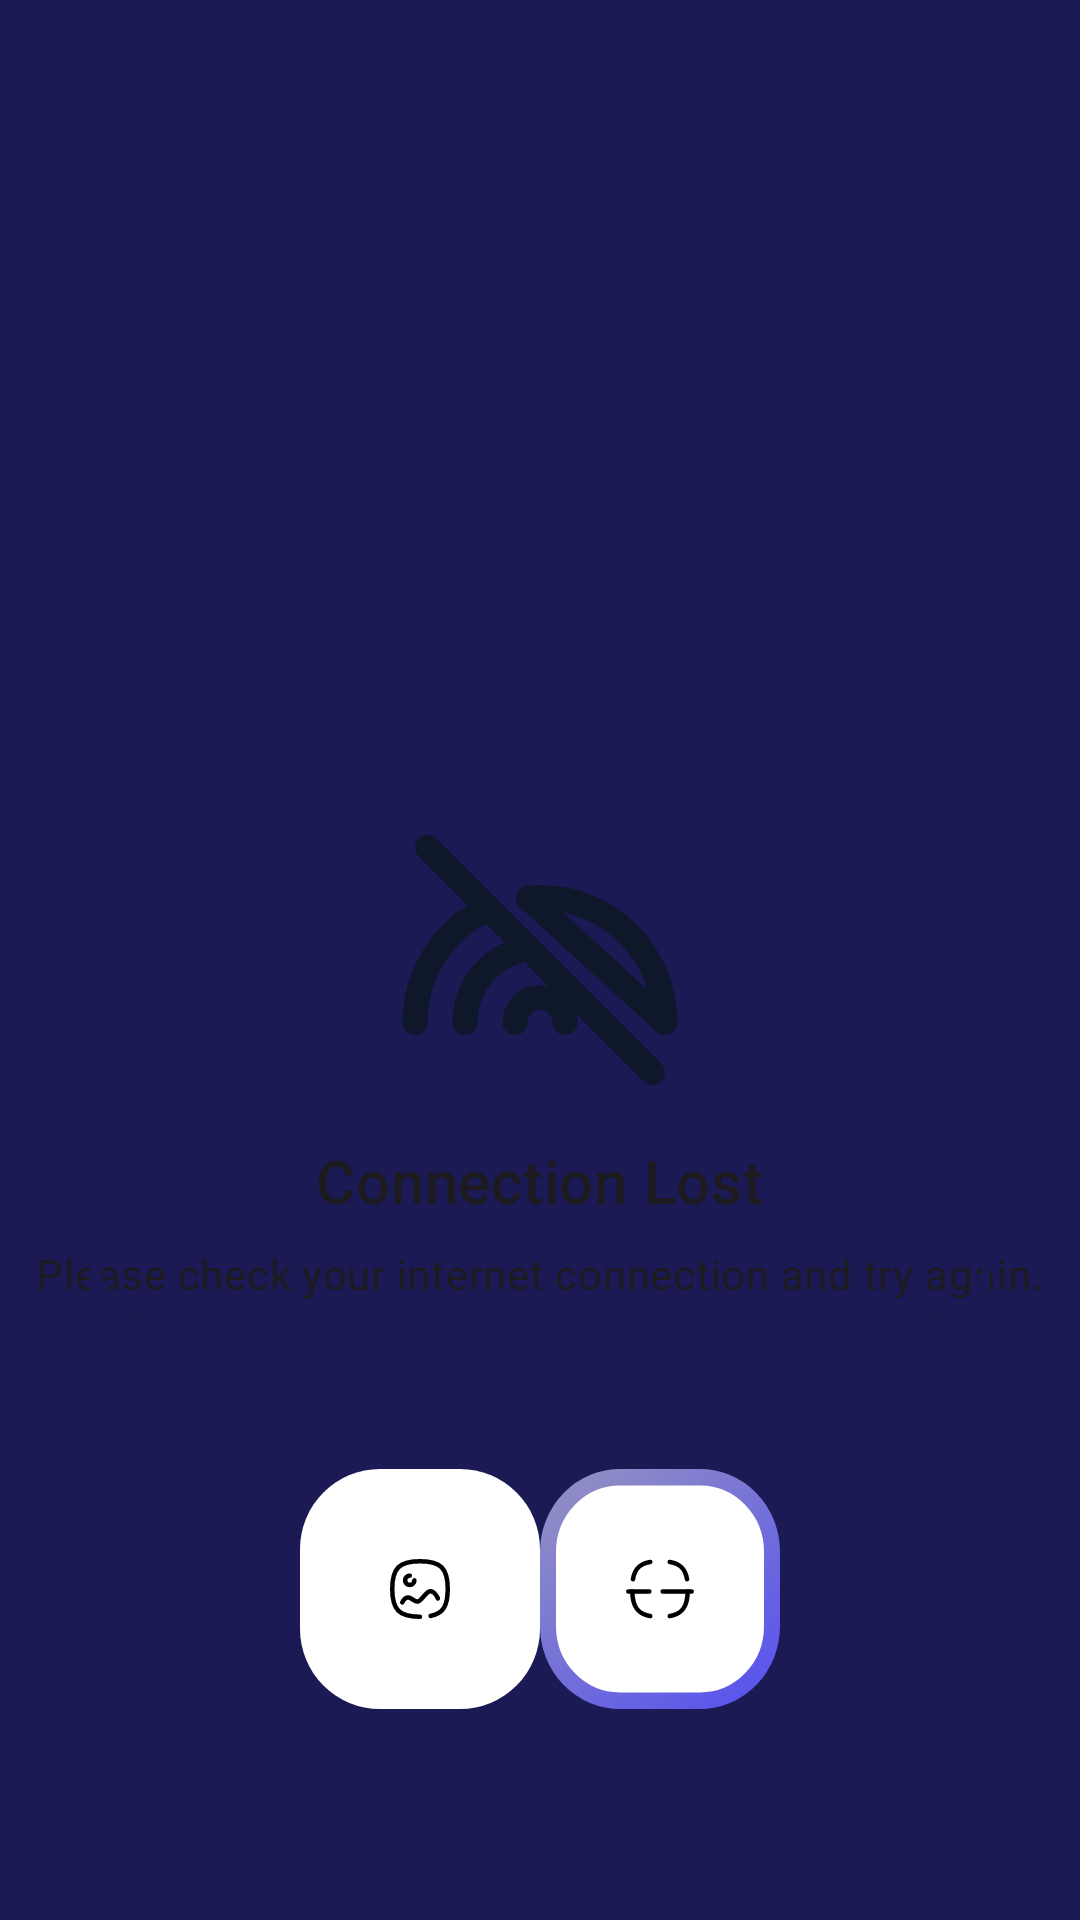

Where icons sit on this 1080*1920 app screen, as (x1, y1, x2, y2):
Galeri: (300, 1469, 540, 1709)
Pindai: (540, 1469, 780, 1709)
